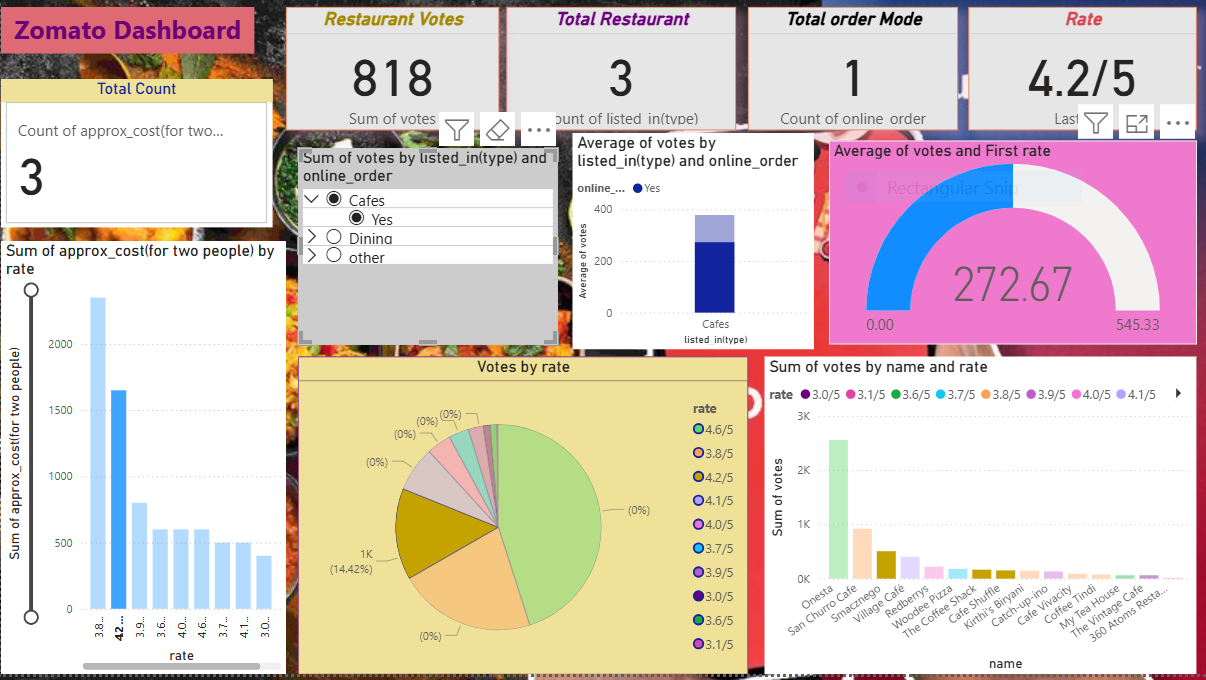

Layout of this report page (visuals, bound fields, positions):
{"tool":"powerbi","page":{"name":"Page 1","canvas":[1280,720],"ordinal":0},"visuals":[{"type":"textbox","box":[0,12.7,268.8,49.3],"z":0},{"type":"lineStackedColumnComboChart","fields":{"Category":["Zomato data.rate"],"Y":["Zomato data.approx_cost(for two people)"]},"box":[0,260.9,302.2,459.7],"z":1000},{"type":"cardVisual","title":"      Total Count","fields":{"Data":["Zomato data.approx_cost(for two people)","select"]},"box":[0,89.1,287.9,157.5],"z":2000},{"type":"card","title":"Total Restaurant","fields":{"Values":["Zomato data.listed_in(type)"]},"box":[536,12.7,243.4,130.4],"z":3000},{"type":"card","title":"Total order Mode","fields":{"Values":["Zomato data.online_order"]},"box":[792.1,12.7,222.7,130.4],"z":4000},{"type":"card","title":"Rate","fields":{"Values":["Zomato data.rate"]},"box":[1025.9,12.7,241.8,130.4],"z":5000},{"type":"card","title":" Restaurant Votes","fields":{"Values":["Zomato data.votes"]},"box":[302.2,12.7,225.9,130.4],"z":6000},{"type":"clusteredColumnChart","fields":{"Category":["Zomato data.listed_in(type)"],"Series":["Zomato data.online_order"],"Y":["Zomato data.votes"]},"box":[606,146.3,256.1,229],"z":7000},{"type":"pieChart","title":"Votes by rate","fields":{"Category":["Zomato data.rate"],"Y":["Zomato data.votes"]},"box":[314.9,383.3,477.2,337.2],"z":9000},{"type":"lineStackedColumnComboChart","fields":{"Category":["Zomato data.name"],"Y":["Zomato data.votes"],"Series":["Zomato data.rate"]},"box":[809.6,383.3,458.1,337.2],"z":10000},{"type":"gauge","fields":{"Y":["Zomato data.votes"]},"box":[878,154.3,389.7,216.3],"z":11000},{"type":"listSlicer","fields":{"Values":["Zomato data.listed_in(type)","Zomato data.online_order"]},"box":[314.9,162.2,275.2,208.4],"z":12000}]}

Visuals, with their boxes in screenshot pixels (x1, y1, x2, y2), scaled from the page's 1280x720 canvas onto the 1206x680 screenshot:
textbox: box(0, 12, 253, 59)
lineStackedColumnComboChart - Zomato data.rate x Zomato data.approx_cost(for two people): box(0, 246, 285, 679)
"      Total Count" cardVisual: box(0, 84, 271, 233)
"Total Restaurant" card: box(505, 12, 734, 135)
"Total order Mode" card: box(746, 12, 956, 135)
"Rate" card: box(967, 12, 1194, 135)
" Restaurant Votes" card: box(285, 12, 498, 135)
clusteredColumnChart - Zomato data.listed_in(type) x Zomato data.online_order: box(571, 138, 812, 354)
"Votes by rate" pieChart: box(297, 362, 746, 679)
lineStackedColumnComboChart - Zomato data.name x Zomato data.votes: box(763, 362, 1194, 679)
gauge - Zomato data.votes: box(827, 146, 1194, 350)
listSlicer - Zomato data.listed_in(type) x Zomato data.online_order: box(297, 153, 556, 350)
